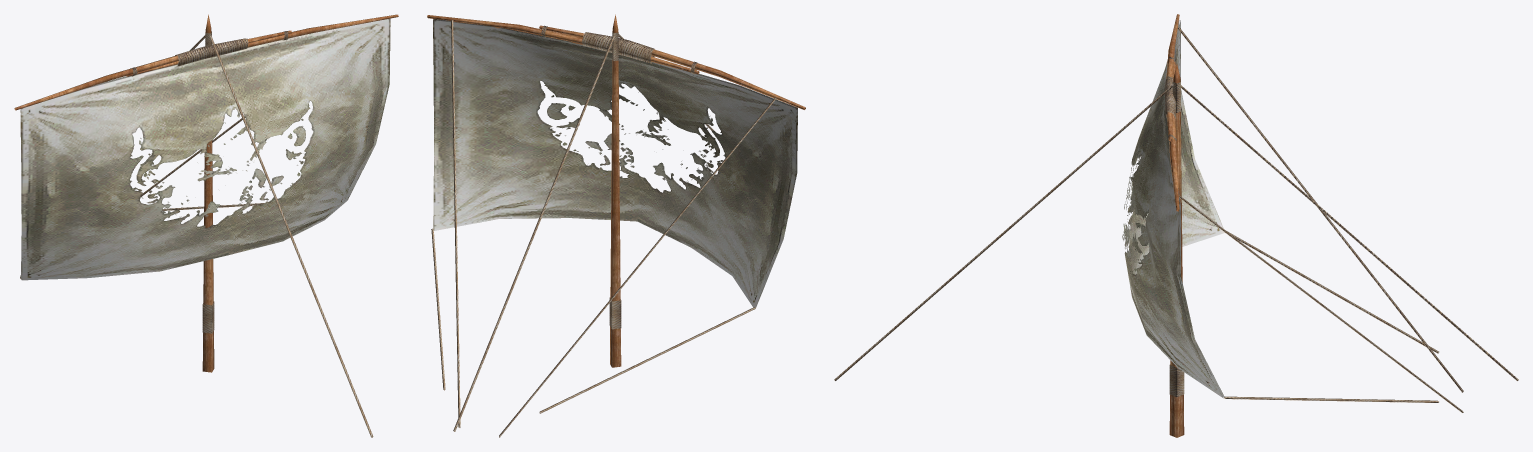
File: pers_merc_sail.dae
3 renders of one model, left to right at view 1: azimuth 30°, elevation 25°; view 2: azimuth 150°, elevation 25°; view 3: azimuth 270°, elevation 25°, orthographic. The views are drawn at different scales.
Visible parts, largest first — view 1: Cube_001; view 2: Cube_001; view 3: Cube_001.
Part boxes in pixels (x1=…): Cube_001: x1=14, y1=14, x2=398, y2=437; Cube_001: x1=427, y1=14, x2=805, y2=437; Cube_001: x1=834, y1=14, x2=1518, y2=437.
Bounding box in the file's own units: 14.73 × 21.83 × 13.09.
